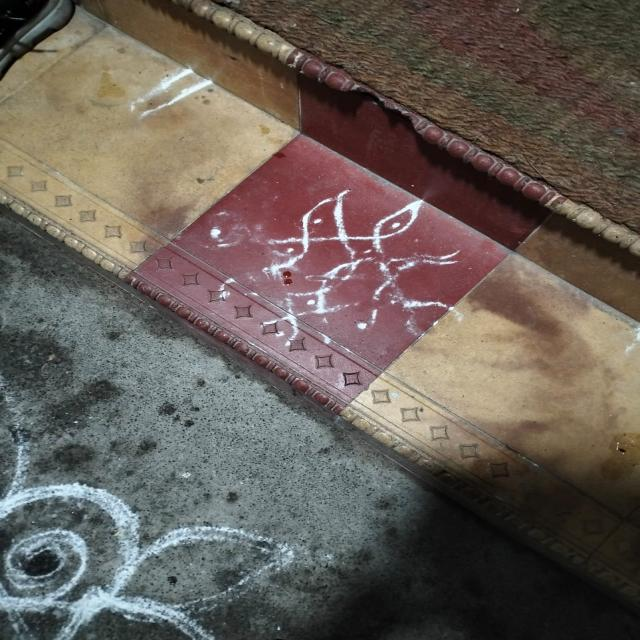rangoli: (179, 187, 464, 345)
